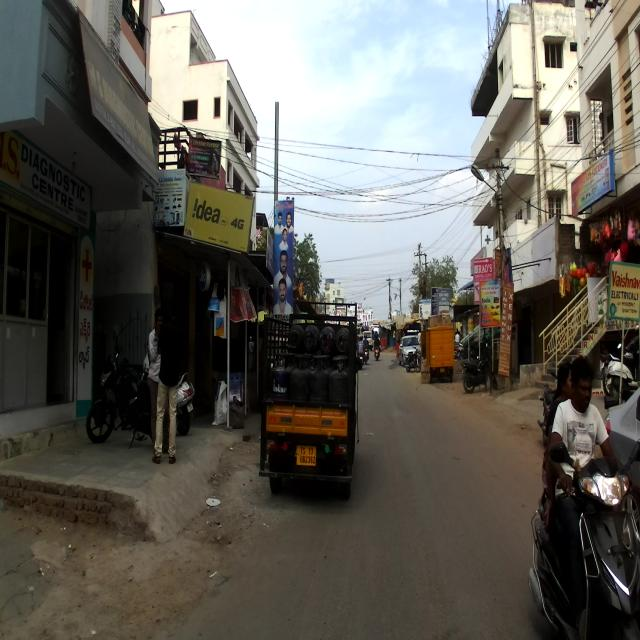motorcycle ahead at: (536, 443, 640, 640), (85, 341, 136, 442)
person ahead at: (146, 287, 184, 469)
truck ahead at: (256, 301, 363, 499)
